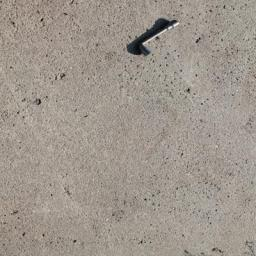FOD: (125, 17, 183, 60)
